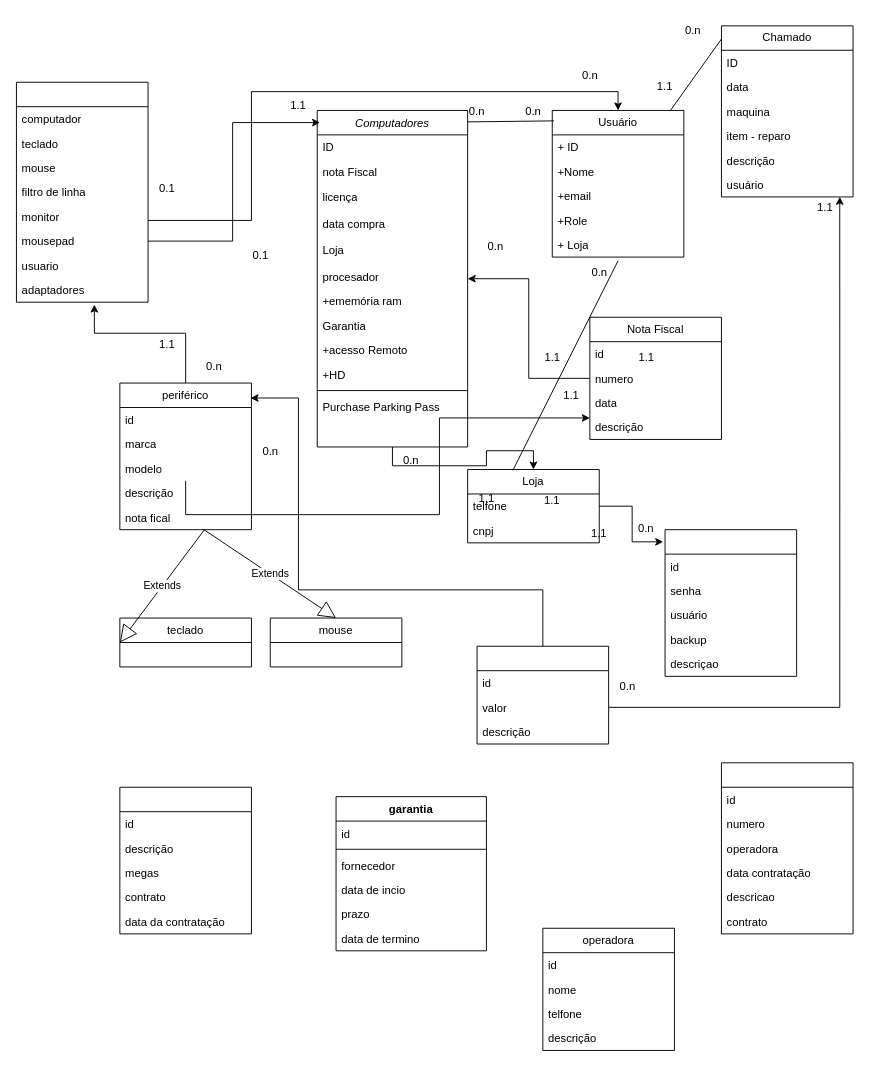
The diagram is 870 pixels wide and 1069 high, and some of its shapes have lost their labels. The box of each missing label's shape, as (x1, y1, x2, y2) in pixels:
internet: (119, 786, 251, 934)
item- reparo: (476, 645, 609, 744)
Kit: (16, 81, 148, 302)
Roteadores - Switch: (664, 529, 797, 676)
telefone: (721, 762, 853, 934)
